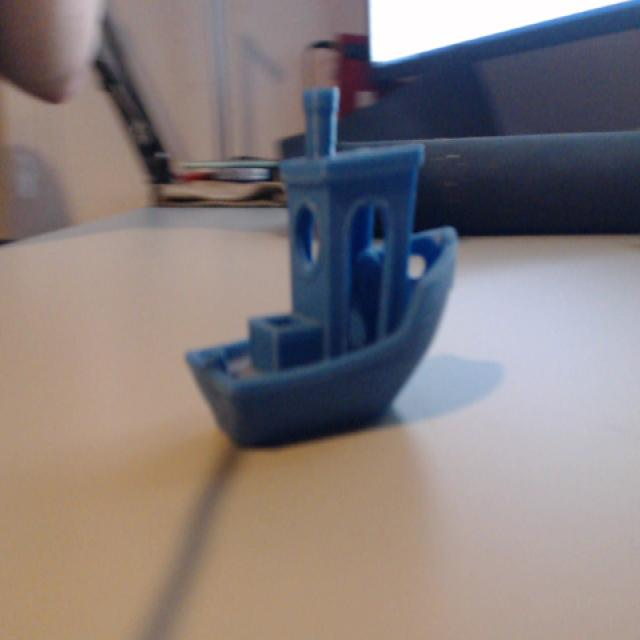benchy: (183, 83, 459, 448)
